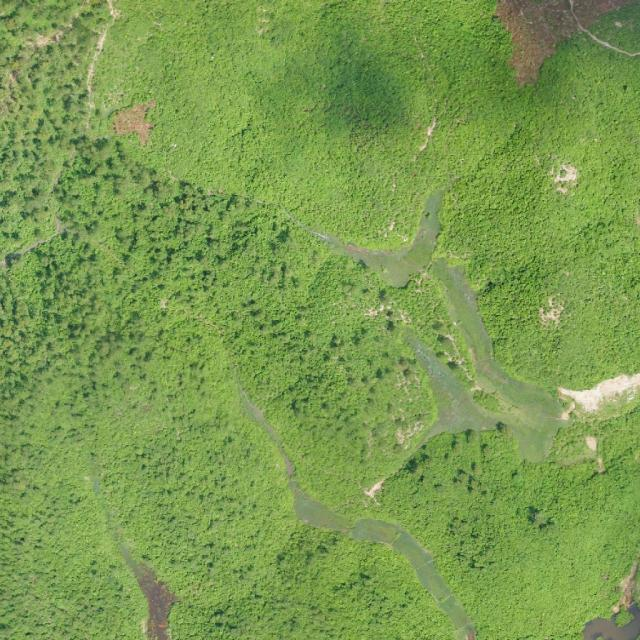greenland: (225, 252, 461, 521), (415, 242, 579, 468), (495, 0, 635, 86), (408, 327, 500, 443)
